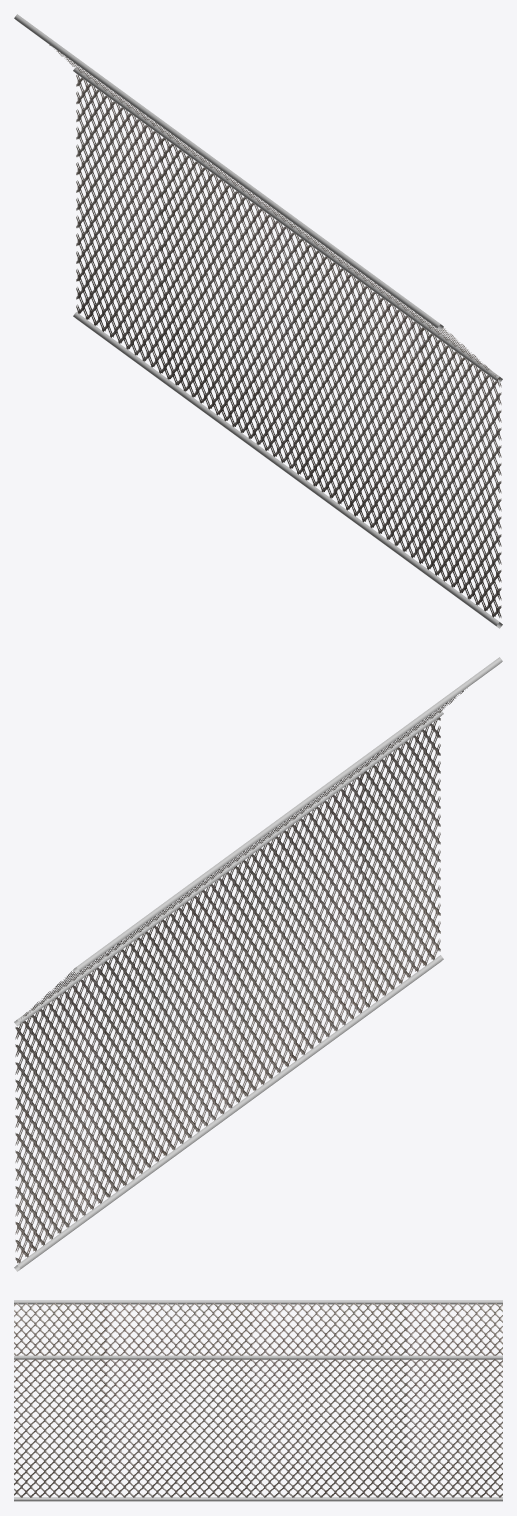
File: Fence_03.fbx
3 renders of one model, top to bottom at view 1: azimuth 30°, elevation 25°; view 2: azimuth 150°, elevation 25°; view 3: azimuth 270°, elevation 25°, orthographic. The views are drawn at different scales.
Visible parts, largest first — view 1: Fence_09, Fence_08; view 2: Fence_09, Fence_08; view 3: Fence_09, Fence_08.
Boxes of the visible parts, <box> form: Fence_09: <box>49,45,501,617</box>; Fence_08: <box>14,14,502,628</box>; Fence_09: <box>15,688,467,1263</box>; Fence_08: <box>14,657,502,1271</box>; Fence_09: <box>14,1303,502,1497</box>; Fence_08: <box>14,1300,502,1501</box>.
Size of the model in its own units: 31.2 by 145 by 349.
